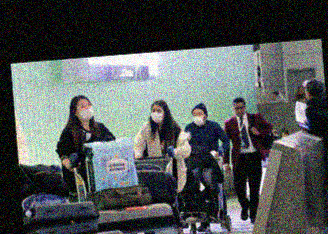with_mask: (76, 99, 94, 120), (150, 106, 165, 122), (192, 109, 205, 125)
without_mask: (234, 103, 245, 115), (297, 87, 305, 95)
